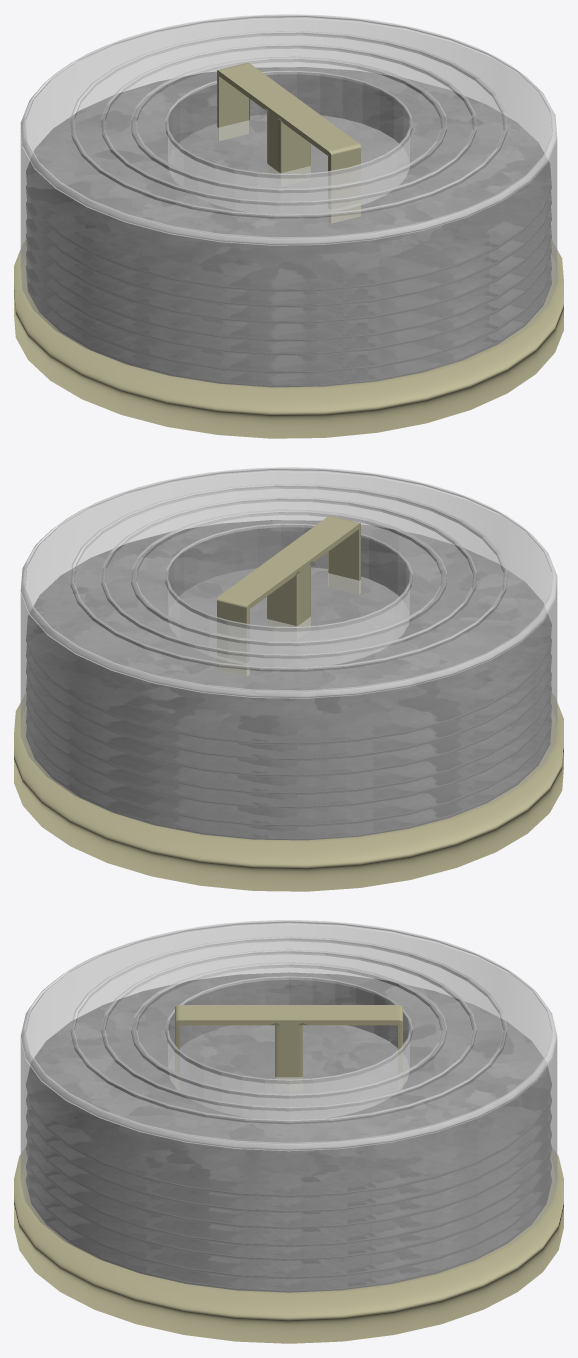
Rendered from ibm_diskai_1311.glb.
3 renders of one model, top to bottom at view 1: azimuth 30°, elevation 25°; view 2: azimuth 150°, elevation 25°; view 3: azimuth 270°, elevation 25°, orthographic.
Parts seen in each view (by area): view 1: Cylinder.010; view 2: Cylinder.010; view 3: Cylinder.010.
Part boxes in pixels (<box>): Cylinder.010: <box>14,14,563,438</box>; Cylinder.010: <box>14,467,563,891</box>; Cylinder.010: <box>14,920,563,1343</box>.
Size of the model in its own units: 3.77 by 1.62 by 3.77.
Materials: 3 (2 with a texture image).
